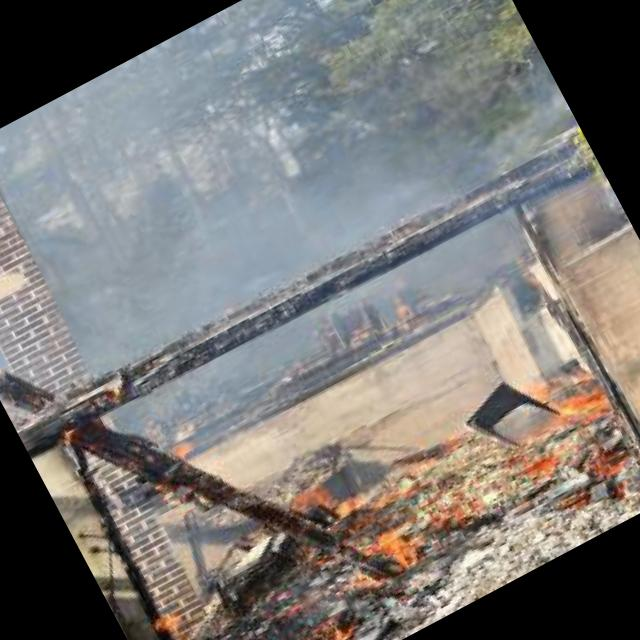fire: (518, 342, 631, 449), (272, 444, 380, 544), (342, 506, 427, 588), (144, 414, 220, 480), (132, 584, 198, 640), (0, 341, 17, 389)
